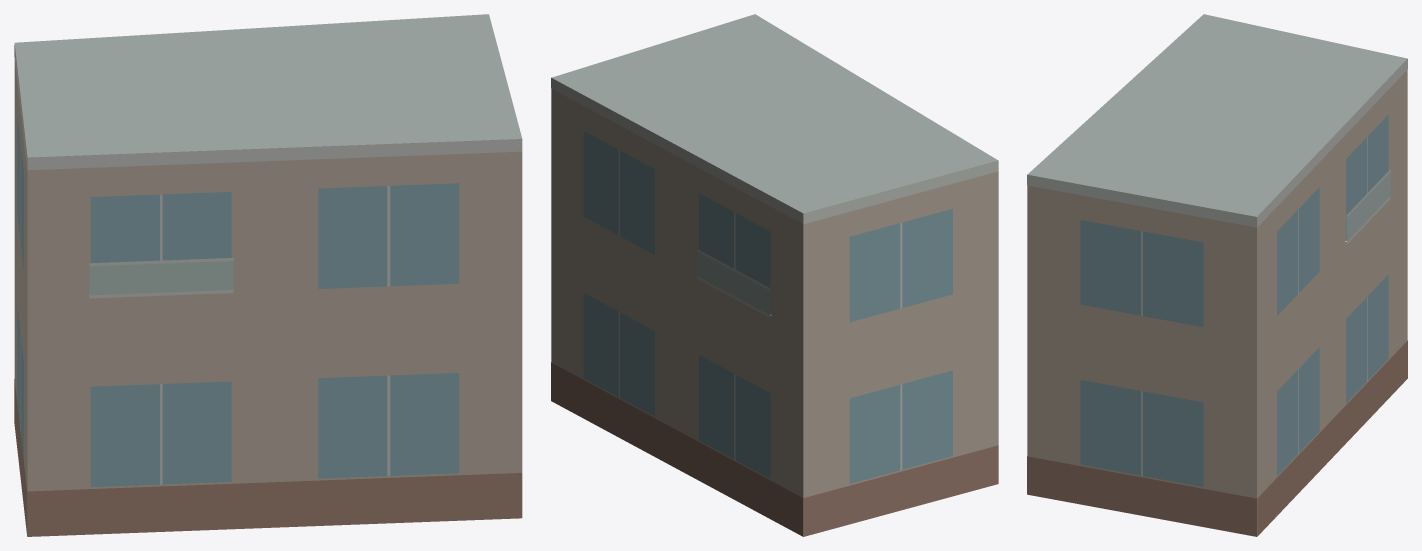
File: survey-upis-32497961.glb
3 views of the same model, side by side, from view 1: azimuth 30°, elevation 25°; view 2: azimuth 150°, elevation 25°; view 3: azimuth 270°, elevation 25° (orthographic). The views are drawn at different scales.
Parts seen in each view (by area): view 1: survey-upis-32497961.tmp; view 2: survey-upis-32497961.tmp; view 3: survey-upis-32497961.tmp.
Boxes of the visible parts, x1,y1,x2,y2 form: survey-upis-32497961.tmp: (14,14,522,536); survey-upis-32497961.tmp: (551,14,998,536); survey-upis-32497961.tmp: (1027,14,1407,536).
Size of the model in its own units: 9.94 by 7.3 by 7.88.
